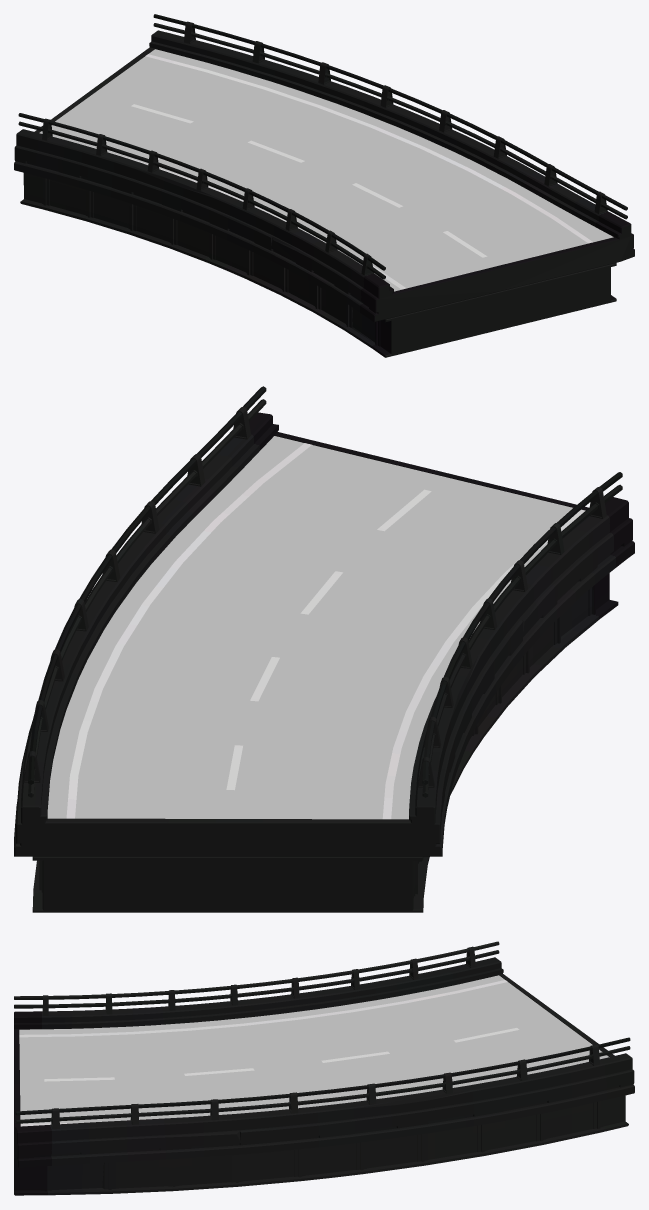
File: Highway_Segment09.fbx
The picture shows the model from 3 angles, top to bottom: view 1: azimuth 30°, elevation 25°; view 2: azimuth 150°, elevation 25°; view 3: azimuth 270°, elevation 25°; orthographic projection. The views are drawn at different scales.
Visible parts, largest first — view 1: SM_City_Highway_Segment_04e.mo; view 2: SM_City_Highway_Segment_04e.mo; view 3: SM_City_Highway_Segment_04e.mo.
Boxes of the visible parts, x1,y1,x2,y2 form: SM_City_Highway_Segment_04e.mo: [14, 14, 634, 357]; SM_City_Highway_Segment_04e.mo: [14, 386, 634, 912]; SM_City_Highway_Segment_04e.mo: [14, 941, 634, 1195].
Size of the model in its own units: 1470 by 342 by 2156.
